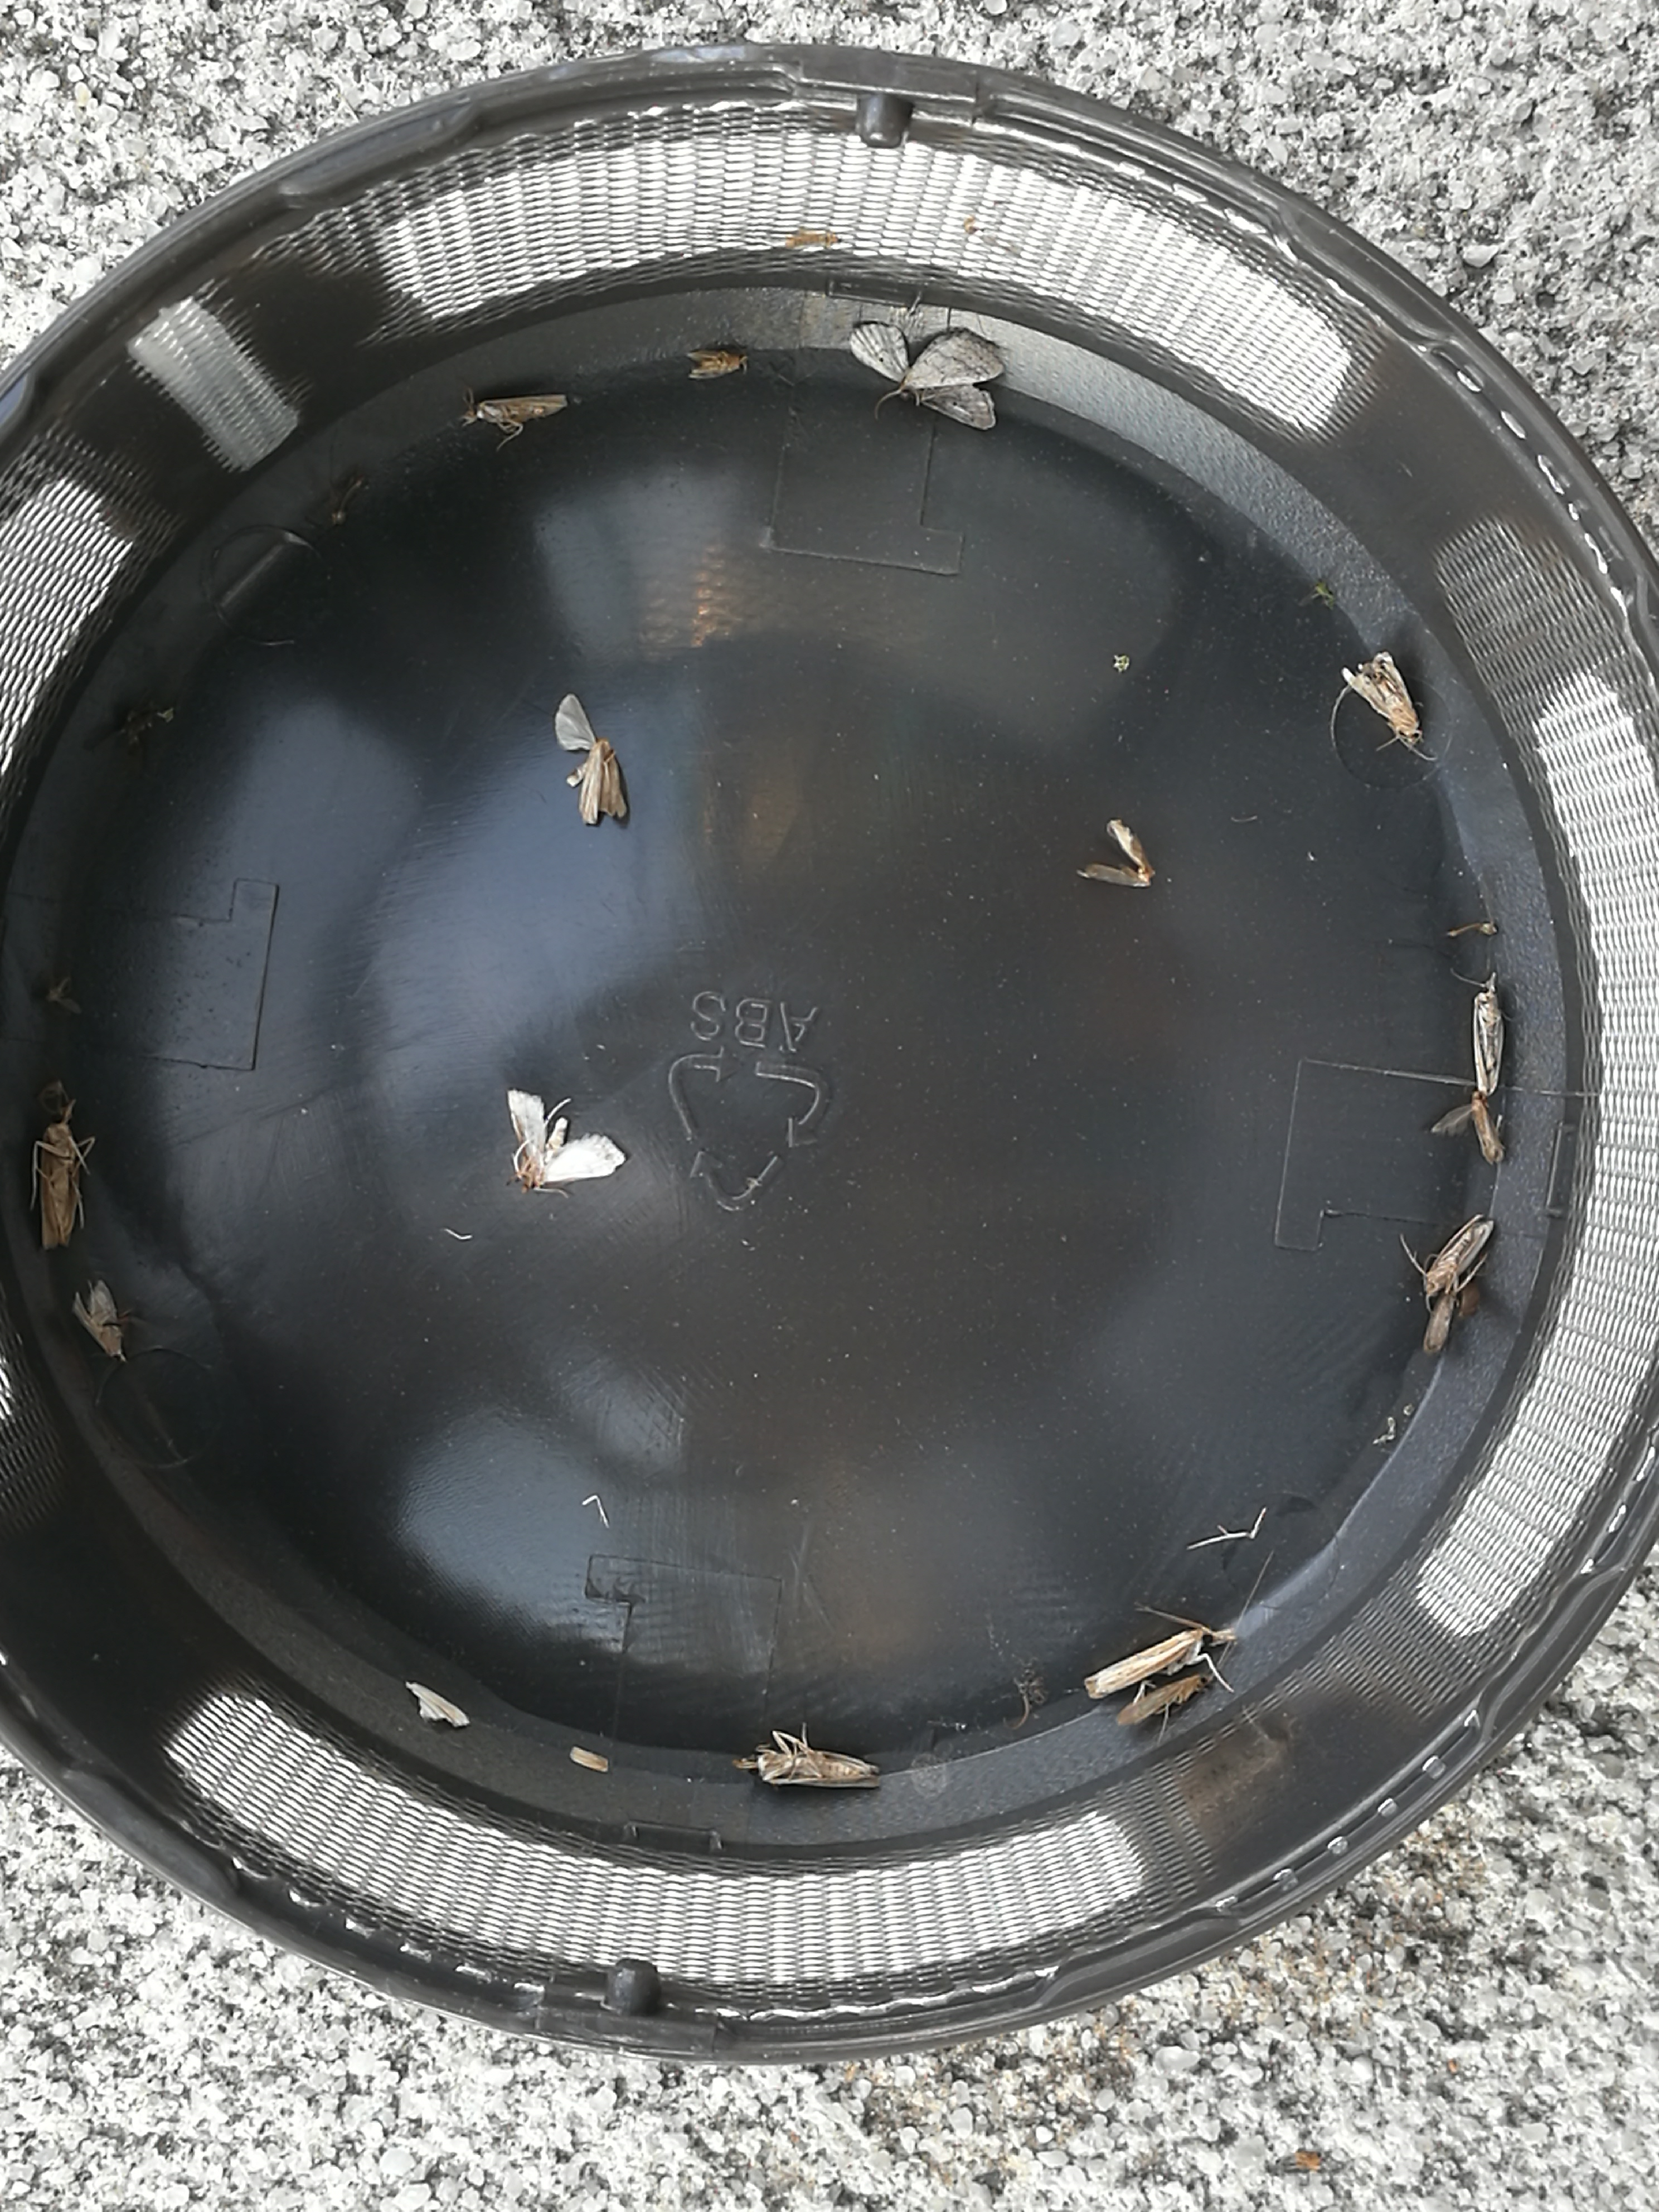mosquito: (1087, 1629, 1216, 1700), (1425, 1212, 1495, 1291), (40, 1120, 77, 1245), (746, 1752, 875, 1787), (1117, 1676, 1209, 1723), (1473, 974, 1504, 1094), (477, 395, 568, 421), (1474, 1099, 1506, 1167), (1425, 1289, 1457, 1352), (688, 350, 742, 380)
moth: (849, 324, 1002, 428), (509, 1090, 626, 1190), (556, 693, 627, 827), (1342, 651, 1420, 740), (75, 1280, 124, 1357)
